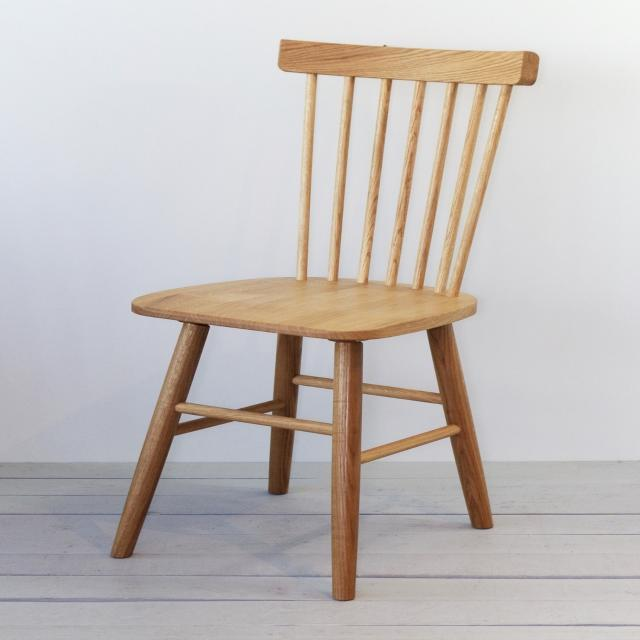chair: (104, 34, 548, 604)
